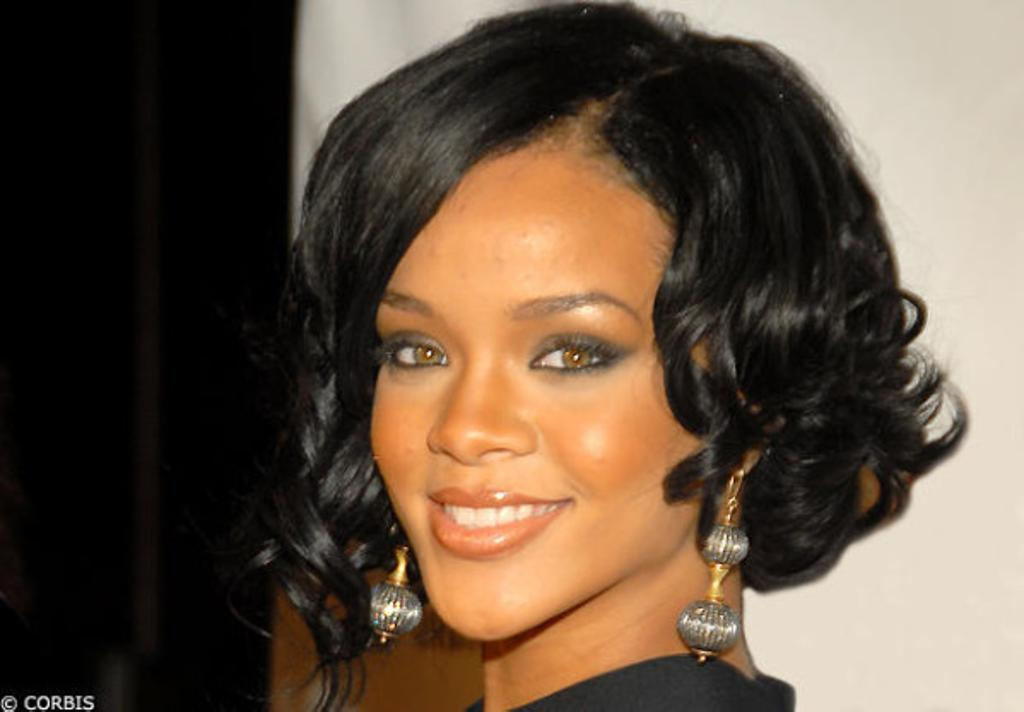face: (376, 140, 718, 634)
